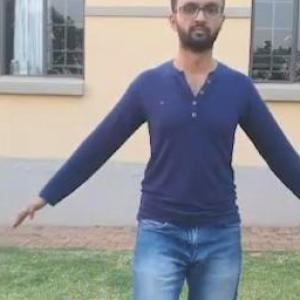land: (42, 0, 300, 299)
